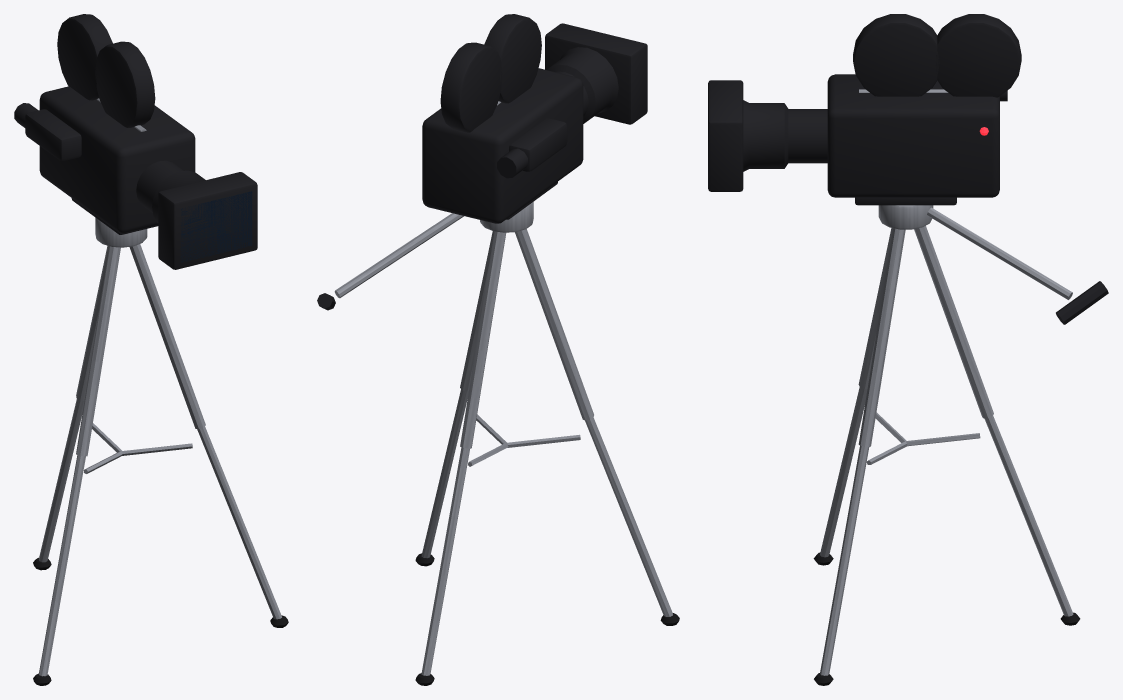
File: camera-tripe.glb
The picture shows the model from 3 angles, left to right: view 1: azimuth 30°, elevation 25°; view 2: azimuth 150°, elevation 25°; view 3: azimuth 270°, elevation 25°; orthographic projection. The views are drawn at different scales.
Parts seen in each view (by area): view 1: corpo, parasol, chassi, parasol-vao, chassi.001, perna-cima.001, perna-cima.002, perna-baixo.001, visor, perna-baixo.002, objetiva, perna-baixo (+2 smaller); view 2: corpo, parasol, chassi.001, chassi, perna-cima, objetiva, perna-cima.001, perna-baixo, perna-baixo.001, visor, perna-baixo.002, manopla (+3 smaller); view 3: corpo, chassi, chassi.001, objetiva, parasol, perna-cima.002, perna-cima, perna-baixo.002, perna-baixo, perna-baixo.001, manopla, cabeca (+3 smaller).
Boxes of the visible parts, <box> form: corpo: <box>39,86,195,233</box>; parasol: <box>158,172,257,269</box>; chassi: <box>95,41,155,127</box>; parasol-vao: <box>180,191,252,262</box>; chassi.001: <box>57,14,112,100</box>; perna-cima.001: <box>76,246,120,456</box>; perna-cima.002: <box>129,244,205,428</box>; perna-baixo.001: <box>39,455,85,676</box>; visor: <box>25,109,81,160</box>; perna-baixo.002: <box>197,426,281,619</box>; objetiva: <box>136,160,205,222</box>; perna-baixo: <box>38,399,84,562</box>; corpo: <box>422,68,583,223</box>; parasol: <box>545,23,647,124</box>; chassi.001: <box>440,42,502,132</box>; chassi: <box>484,14,541,103</box>; perna-cima: <box>460,231,506,448</box>; objetiva: <box>547,47,618,123</box>; perna-cima.001: <box>515,229,593,420</box>; perna-baixo: <box>421,447,469,675</box>; perna-baixo.001: <box>585,417,672,616</box>; visor: <box>509,118,567,171</box>; perna-baixo.002: <box>421,389,468,558</box>; manopla: <box>334,213,463,298</box>; corpo: <box>827,74,999,197</box>; chassi: <box>853,14,939,96</box>; chassi.001: <box>935,14,1021,97</box>; objetiva: <box>743,100,827,171</box>; parasol: <box>708,80,743,191</box>; perna-cima.002: <box>858,228,905,446</box>; perna-cima: <box>914,225,993,418</box>; perna-baixo.002: <box>820,445,869,675</box>; perna-baixo: <box>984,415,1073,616</box>; perna-baixo.001: <box>820,387,867,557</box>; manopla: <box>927,207,1072,299</box>; cabeca: <box>878,205,933,229</box>.
Bounding box in the file's own units: 0.7787 × 1.71 × 1.02.
Materials: 5 (2 with a texture image).
